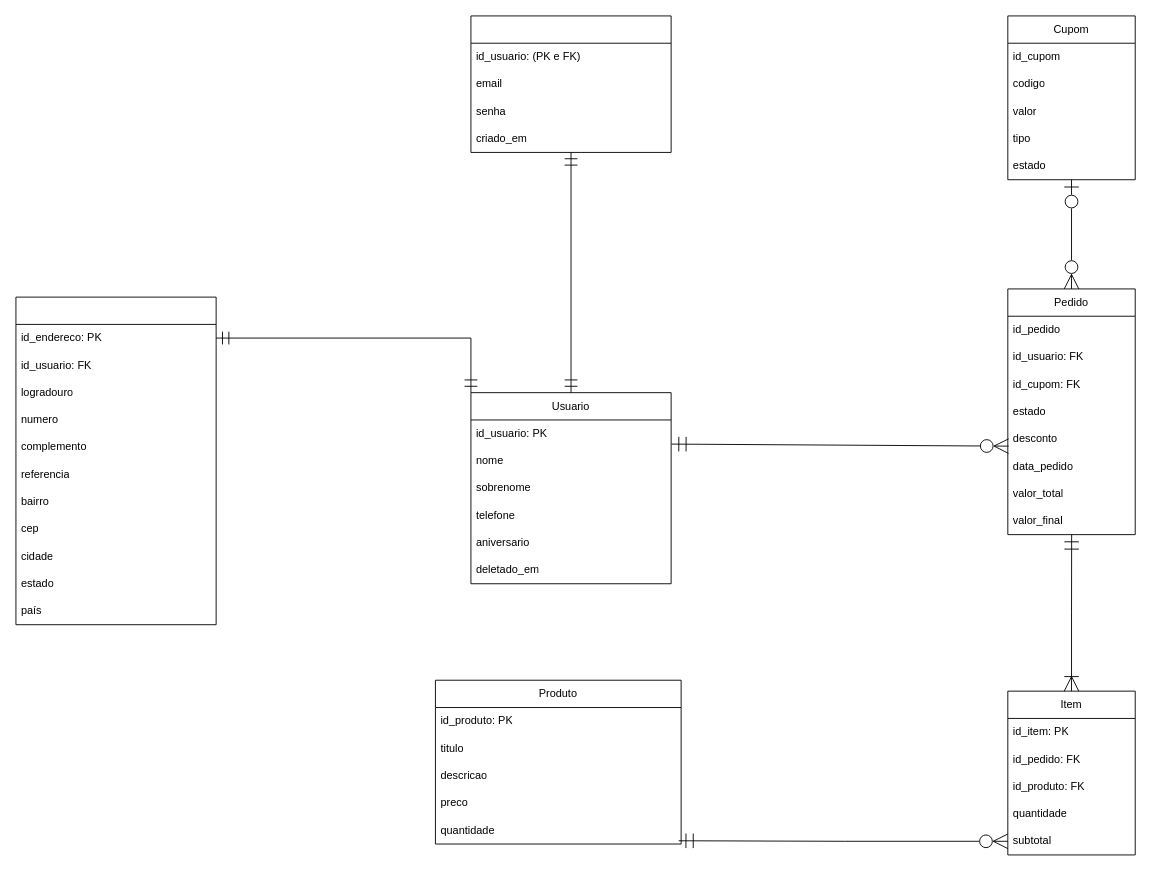
This 1151x873 diagram has some shape labels left out. Here are the shapes that lost their labels. From the top down, the box of each, then its label:
(470, 15, 671, 152): Credencial
(15, 296, 216, 625): Endereço
